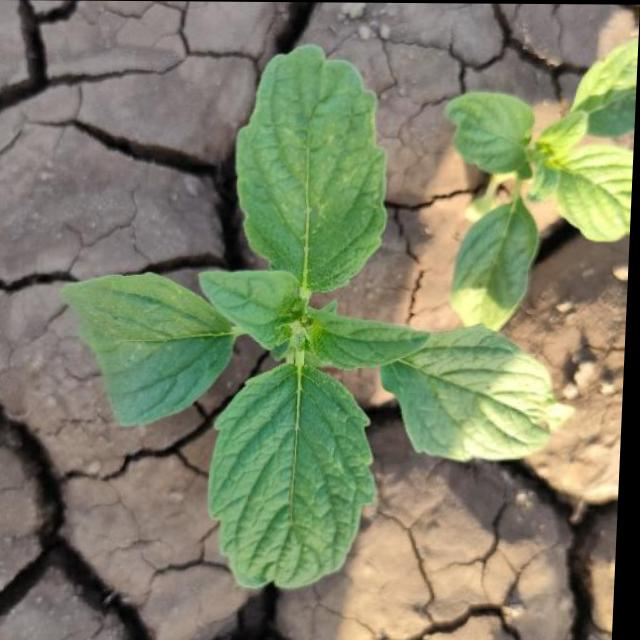crop: (54, 59, 588, 587), (421, 33, 637, 330)
